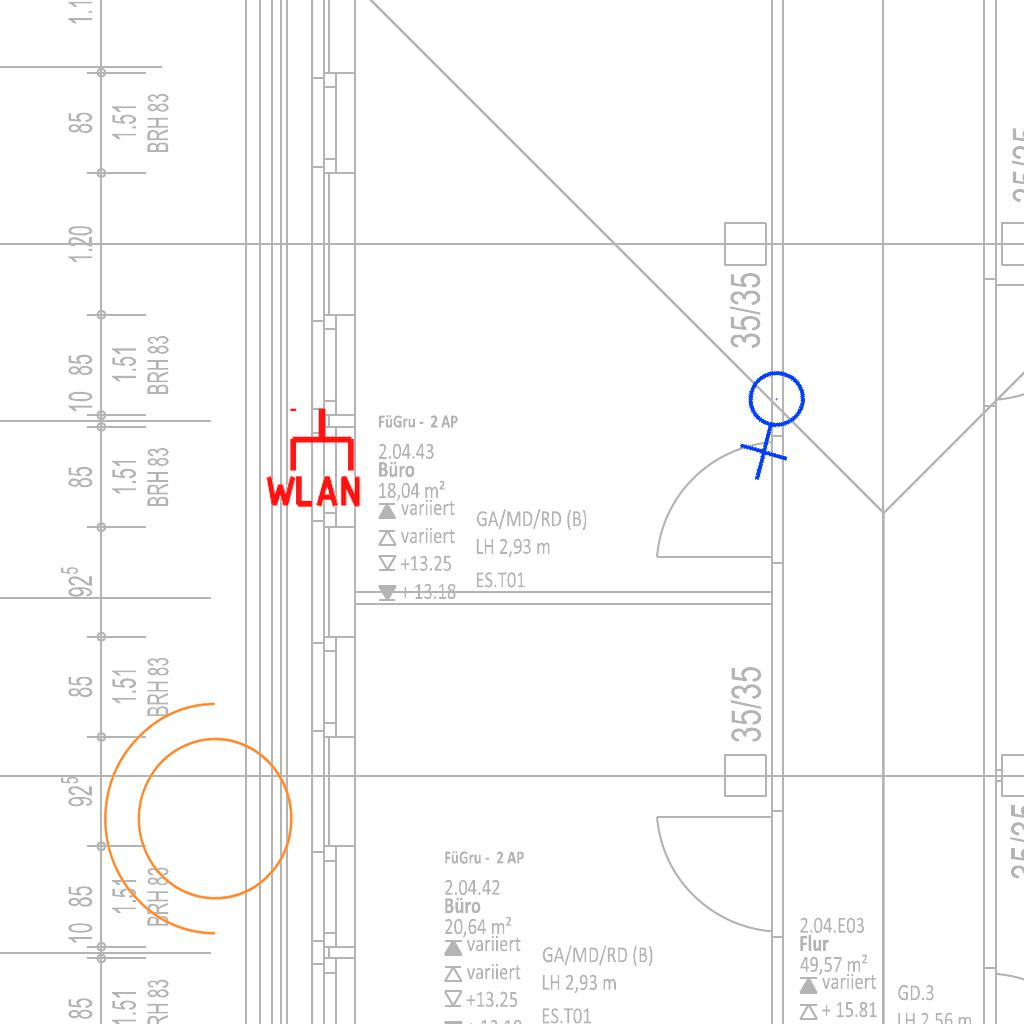Elektroanschluss_allgemein_230V_Geraeteanschlussdose_230V: (708, 353, 843, 487)
Scheinwerfer_fuer_Alarmbeleuchtung: (93, 693, 318, 957)
WLAN: (261, 404, 365, 509)
